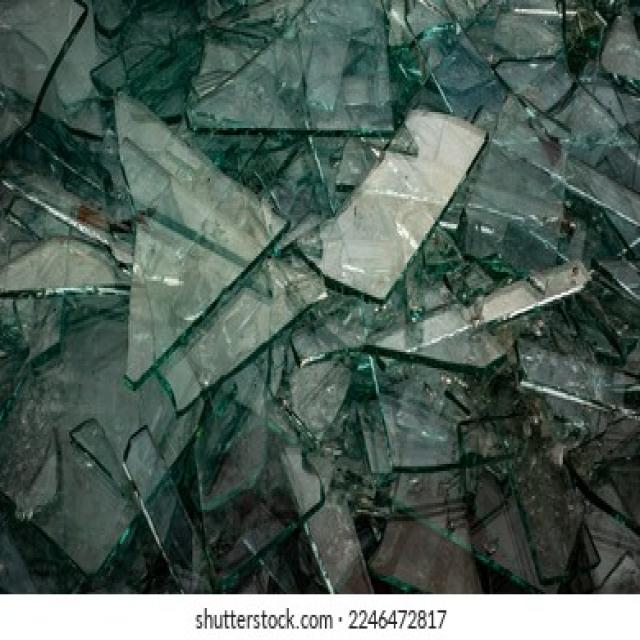glass: (8, 18, 624, 569)
